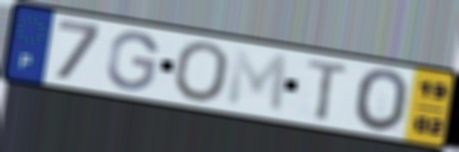7: (52, 17, 105, 84)
G: (104, 30, 162, 93)
M: (224, 45, 291, 116)
O: (353, 66, 413, 135), (170, 40, 232, 105)
T: (305, 57, 353, 123)
